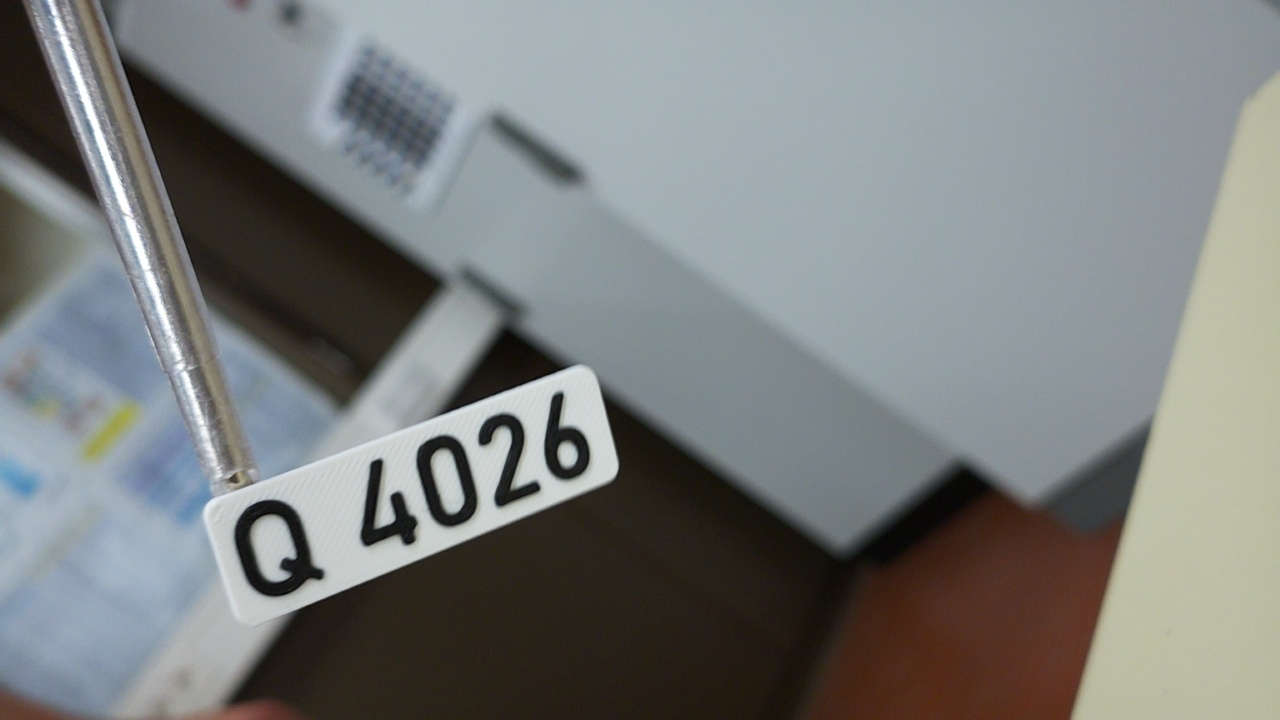license_plate: (196, 361, 625, 630)
